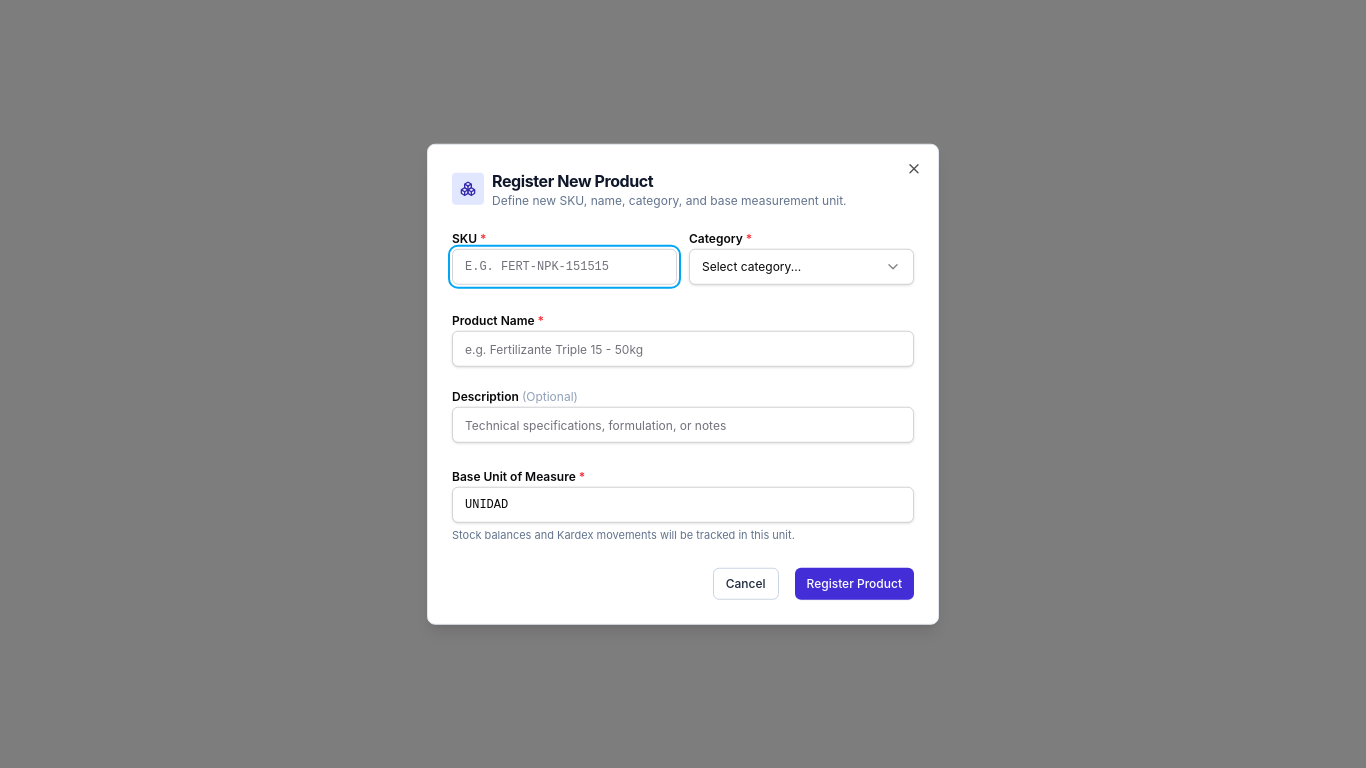
Test case: Product Management Component Tests › displays error if duplicate SKU is returned by backend
In the field labelled "SKU *": (564, 267) [452,249,677,285], type "FERT-NPK-151515"
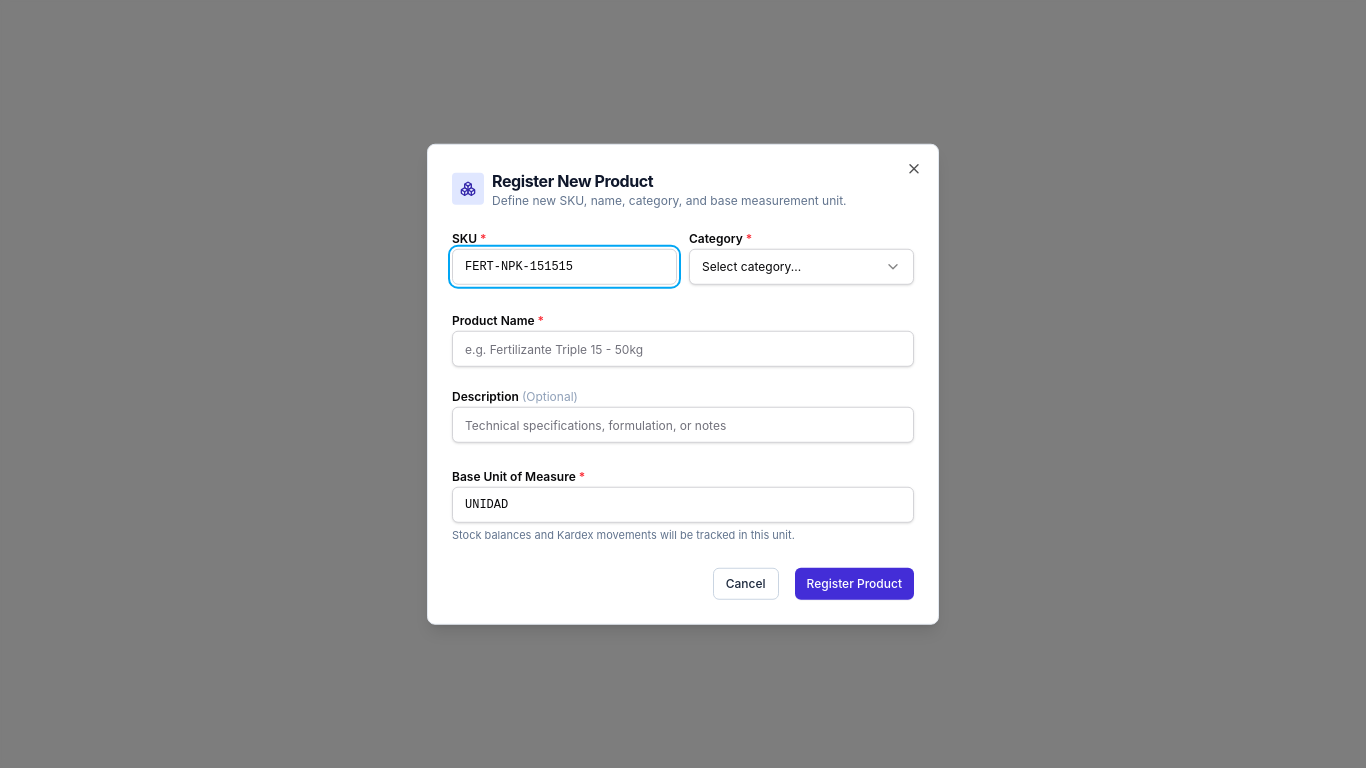
In the field labelled "Product Name *": (683, 349) [452,331,914,367], type "Fertilizante"
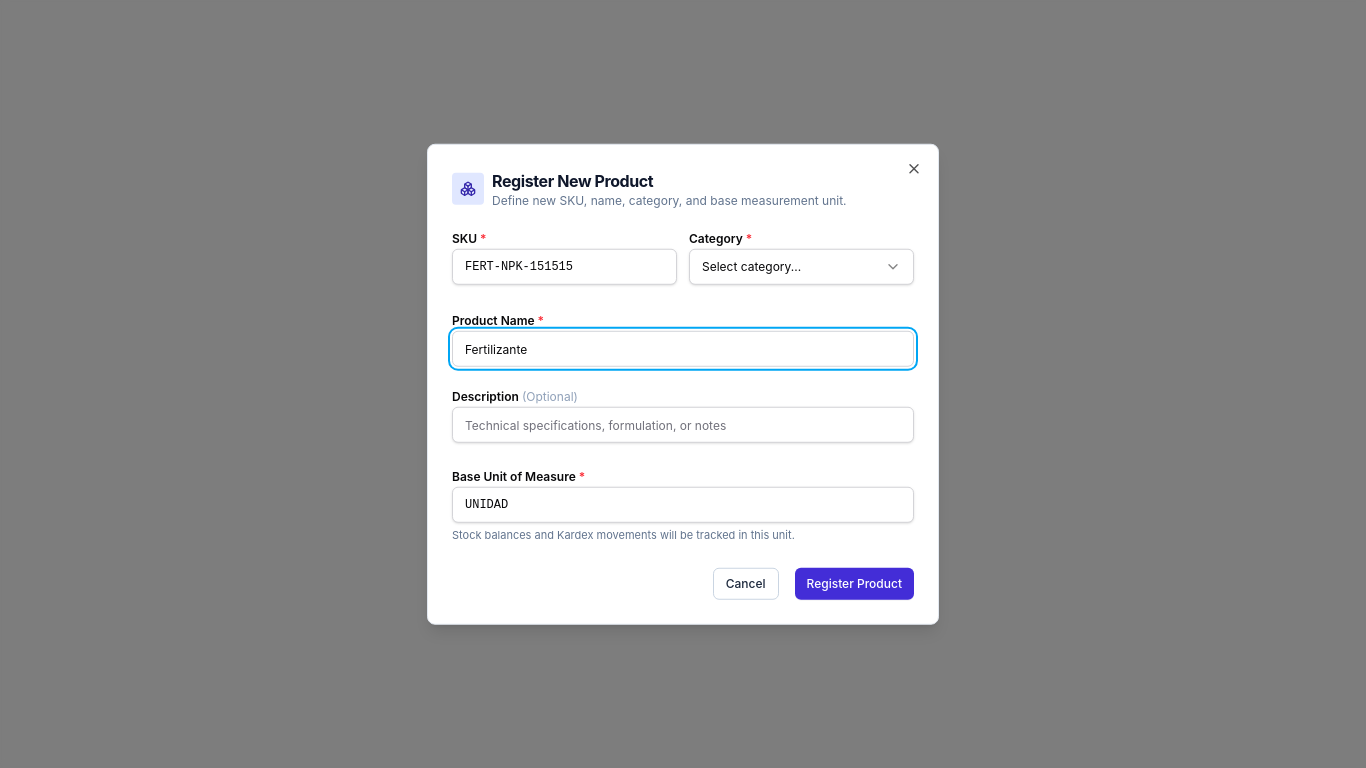
Click the dropdown labelled "Select category...": (802, 267) [689,249,914,285]
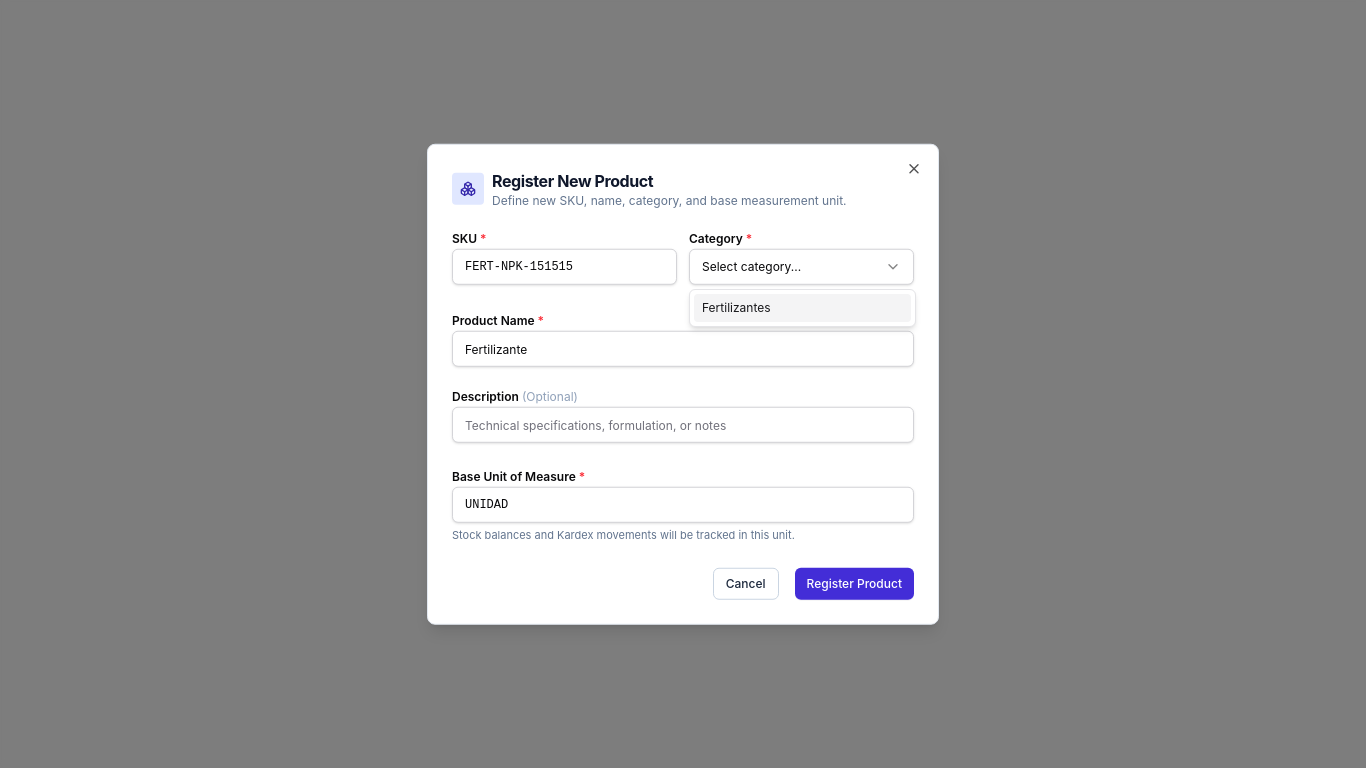
Click the option "Fertilizantes": (802, 308) [694,294,911,322]
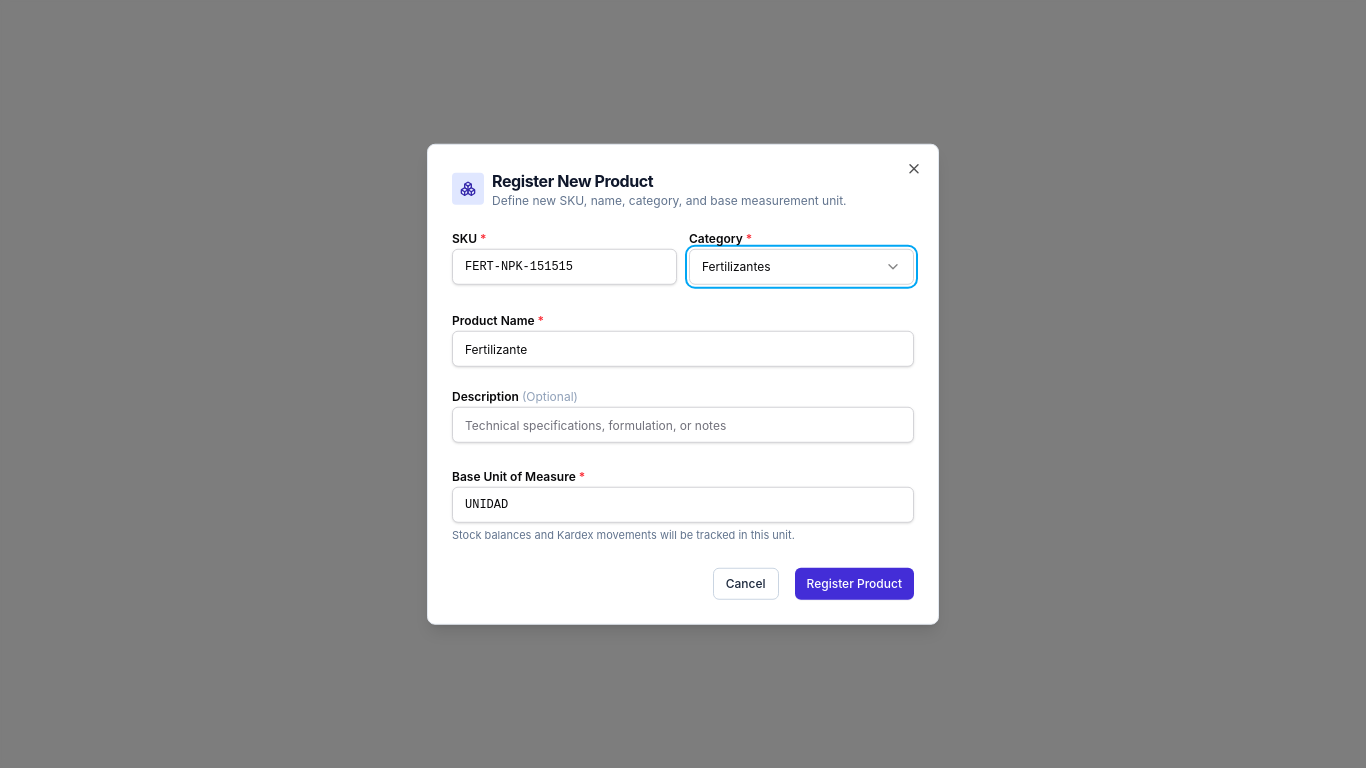
Click the button "Register Product": (854, 583) [794,567,914,599]
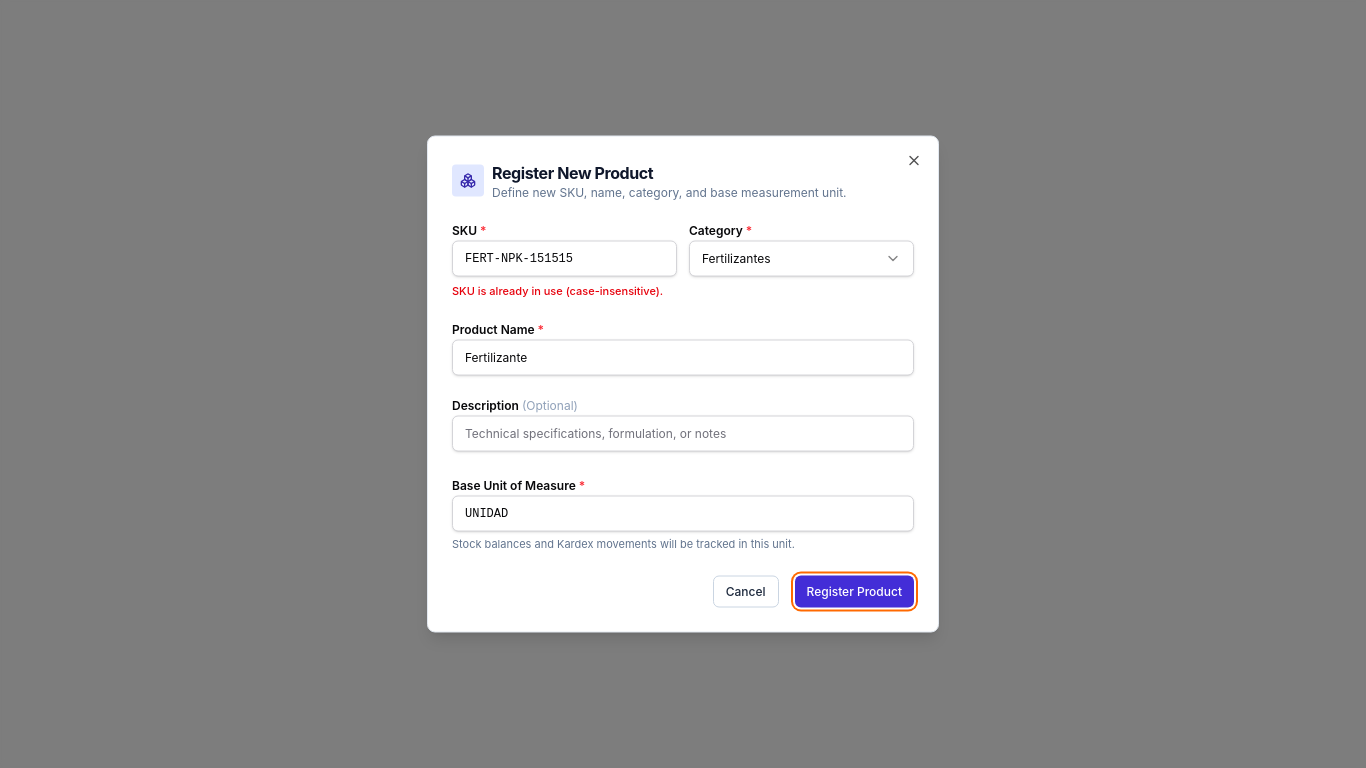
Expected: the text "SKU is already in use (case-insensitive)." is shown, [452,282,677,299]
